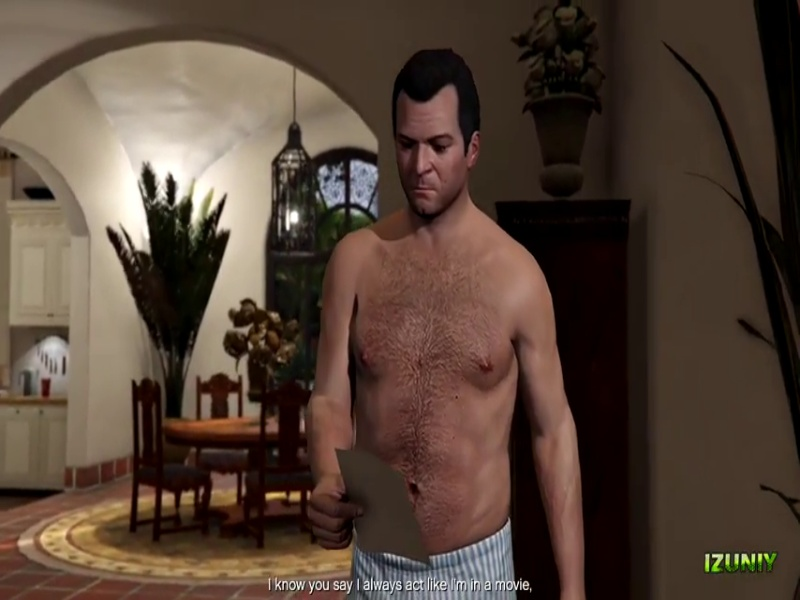human: (309, 47, 579, 590)
